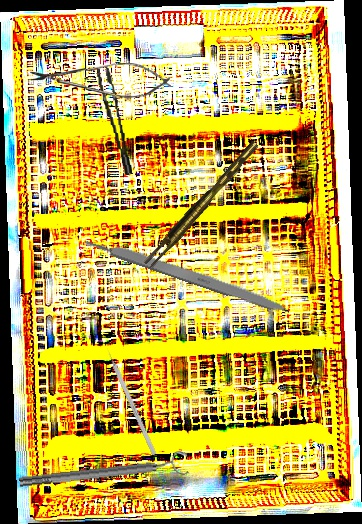Fixation Ring: (18, 450, 189, 494)
Hook Surgical: (103, 343, 157, 456)
Micro Scissor: (29, 59, 172, 100)
Scalpel Handle: (83, 232, 293, 317)
Tissue Forceps: (139, 140, 265, 270), (96, 65, 133, 177)
